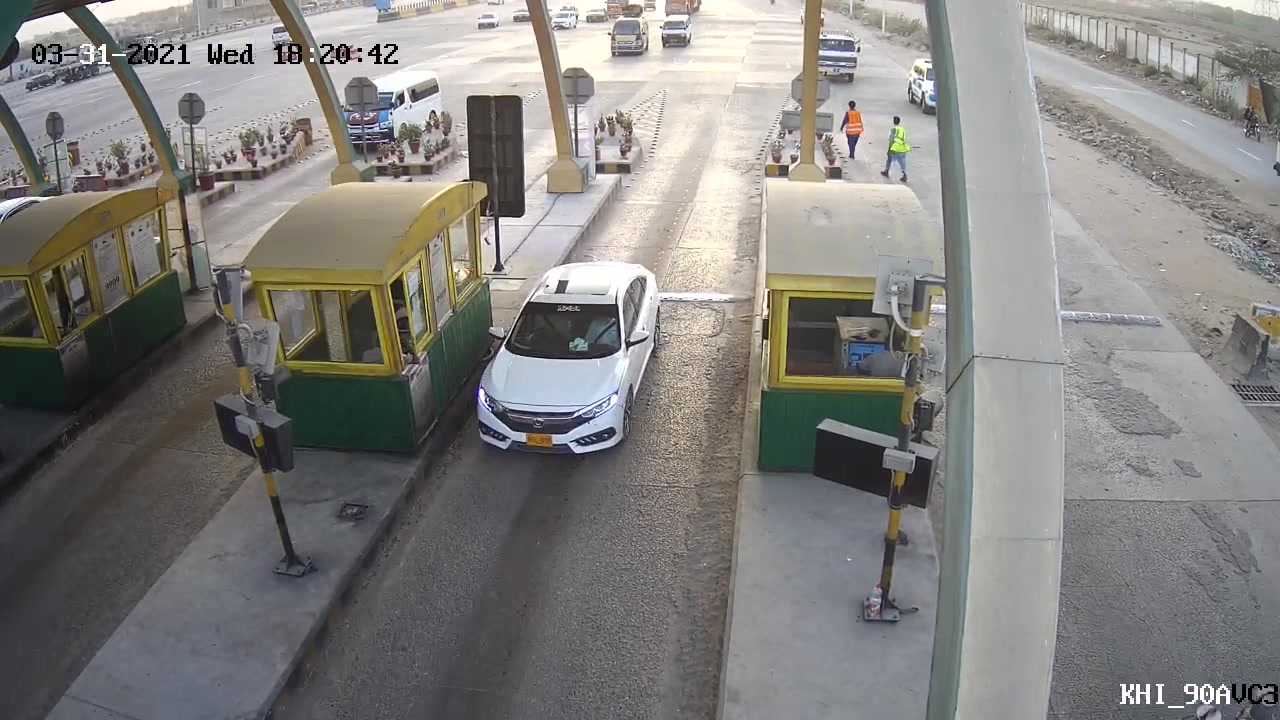F1: (469, 257, 669, 458)
